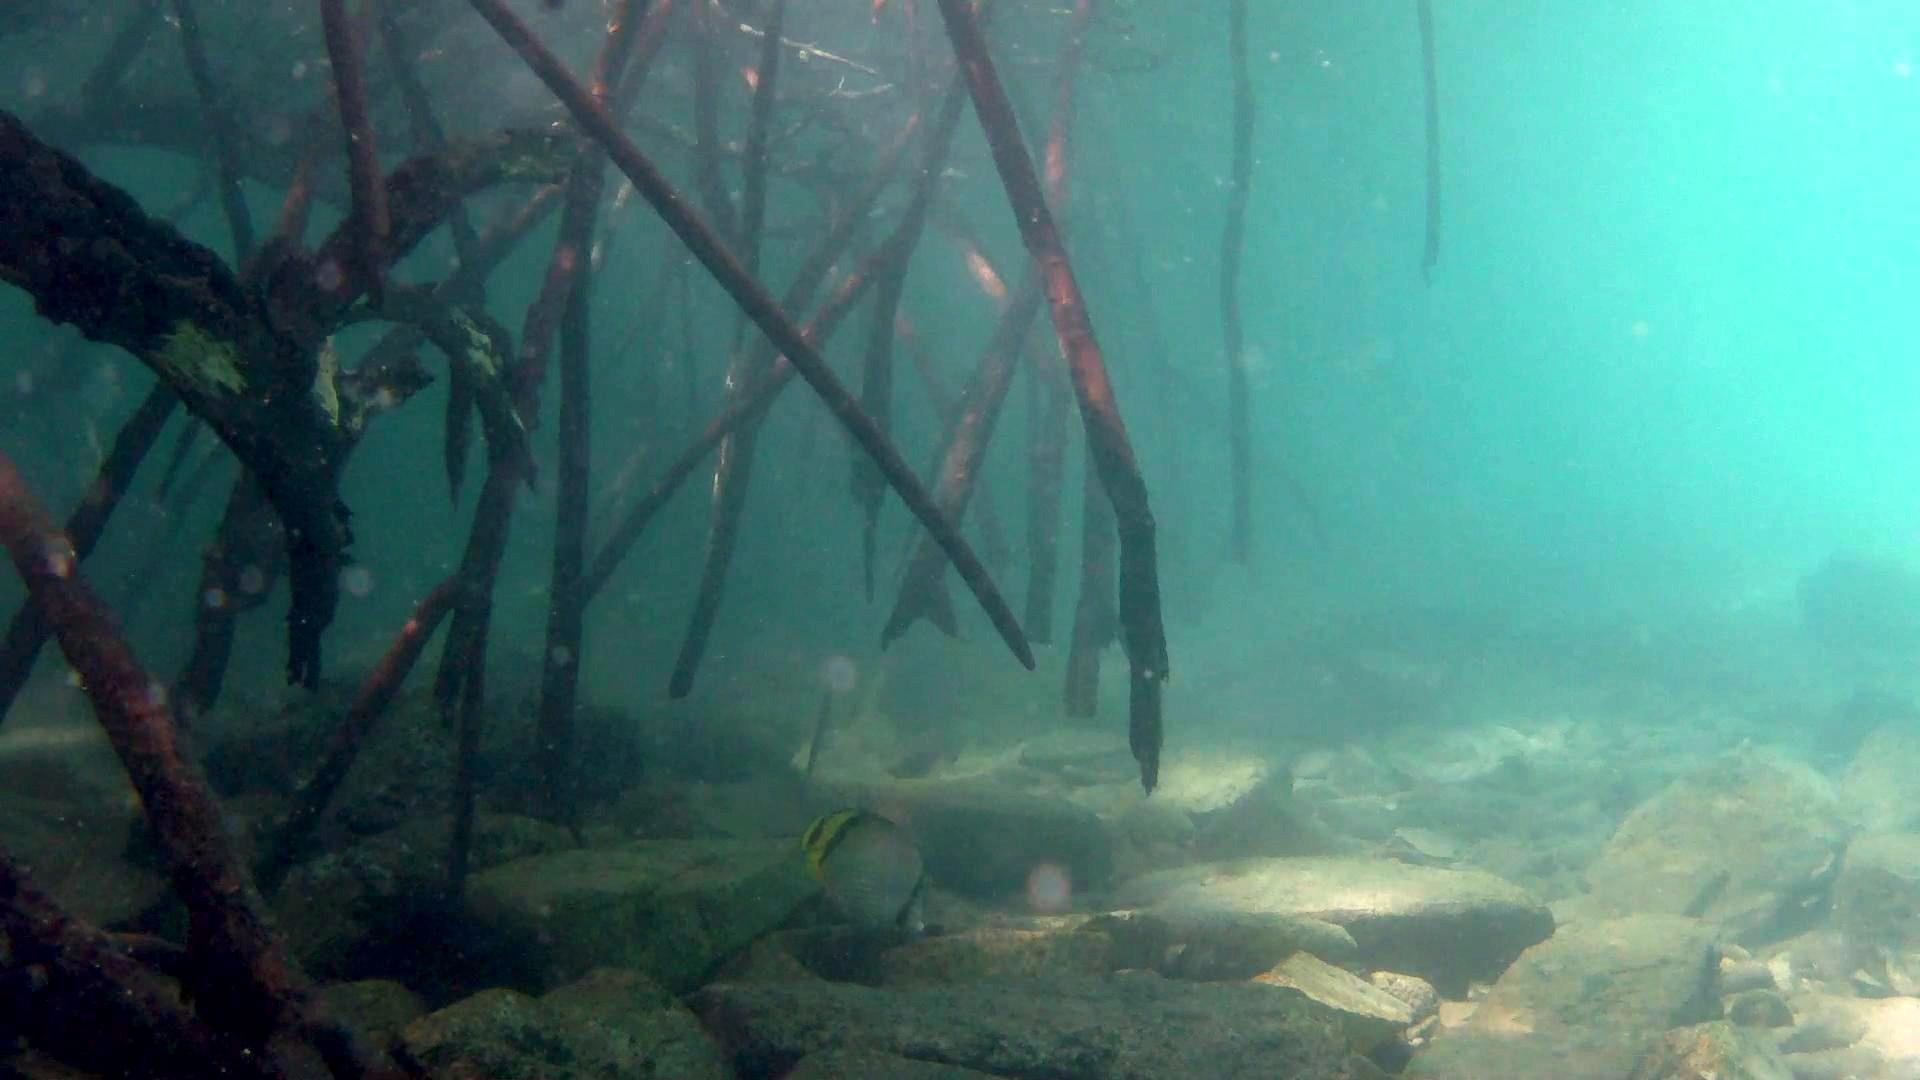chaetodon vagabundus: (798, 806, 932, 940)
